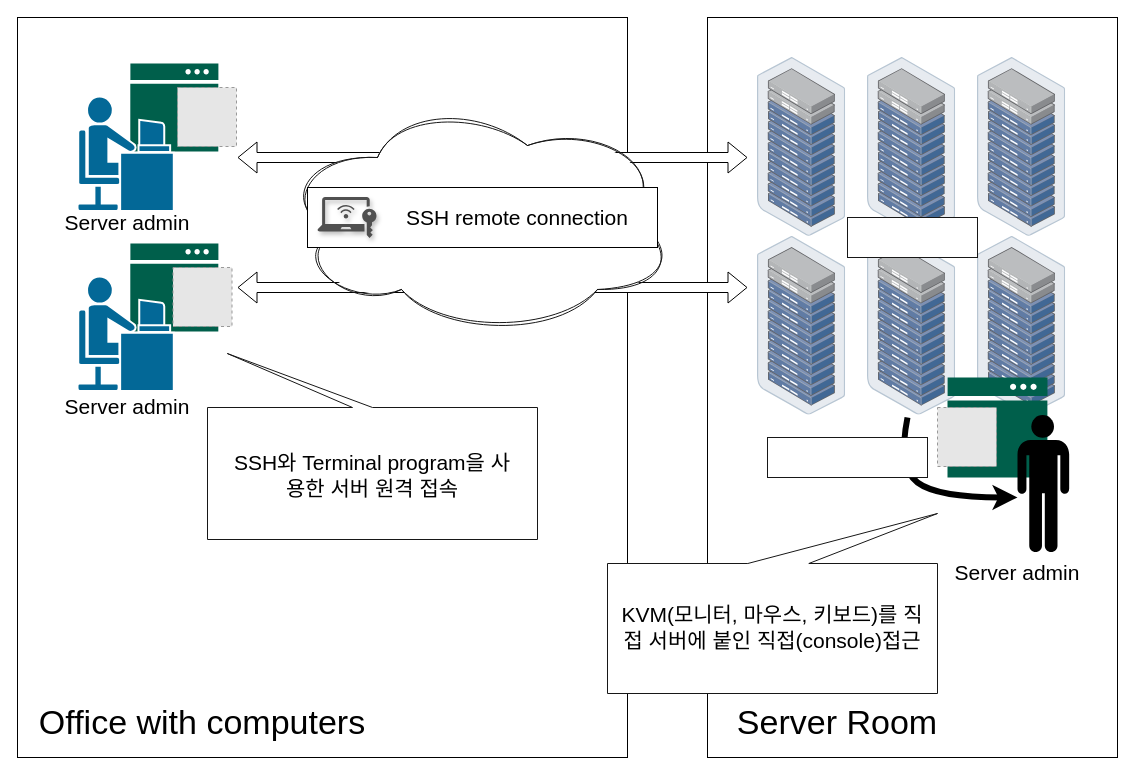
The diagram is 1135 pixels wide and 775 high, and some of its shapes have lost their labels. Grey dashed boxes stand in for pictures. The centre of each missing label's shape, as x and y in pixels:
Console connection: the point at 847,457
Servers: the point at 912,237
